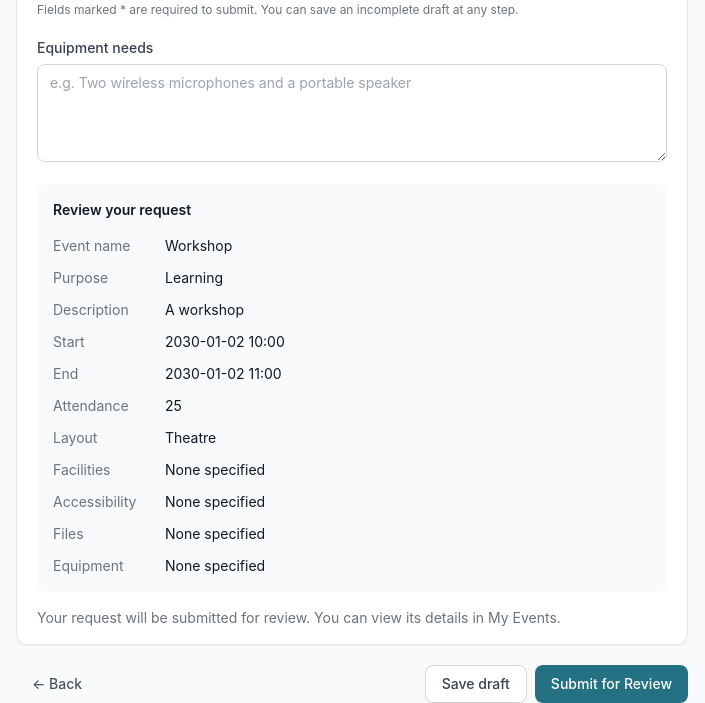
Scenario: SPM-37 Q2 functional cases › Q2-023 back navigation preserves data and server attachment errors are visible
The width and height of the screenshot is (705, 703).
(page scrolled)
Check: the text box labelled "Equipment needs" is shown, box x1=37 y1=64 x2=667 y2=162
Click the button "← Back" at [57, 684], box x1=16 y1=666 x2=98 y2=702
(page scrolled)
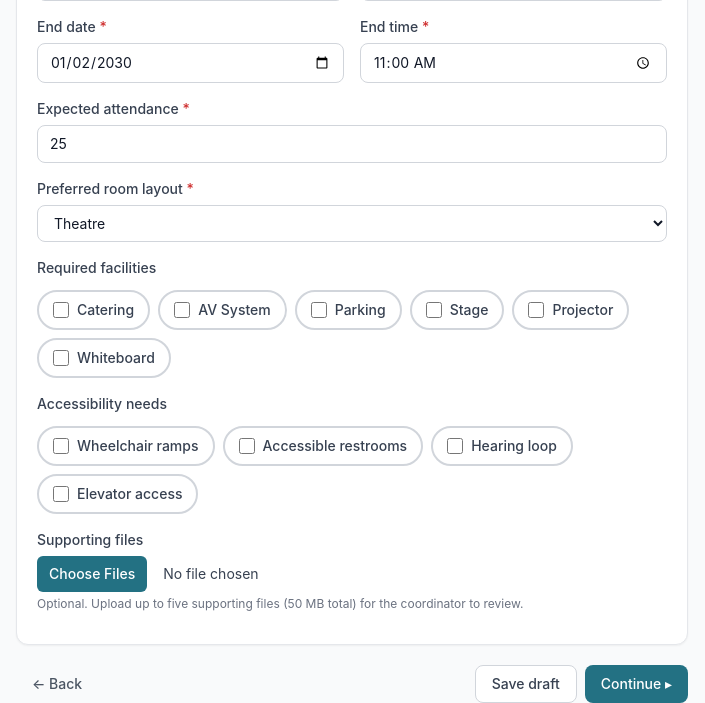
Check: the number field labelled "Expected attendance *" holds "25", box x1=37 y1=125 x2=667 y2=163
Click the button "Save draft" at [526, 684], box x1=475 y1=665 x2=577 y2=702
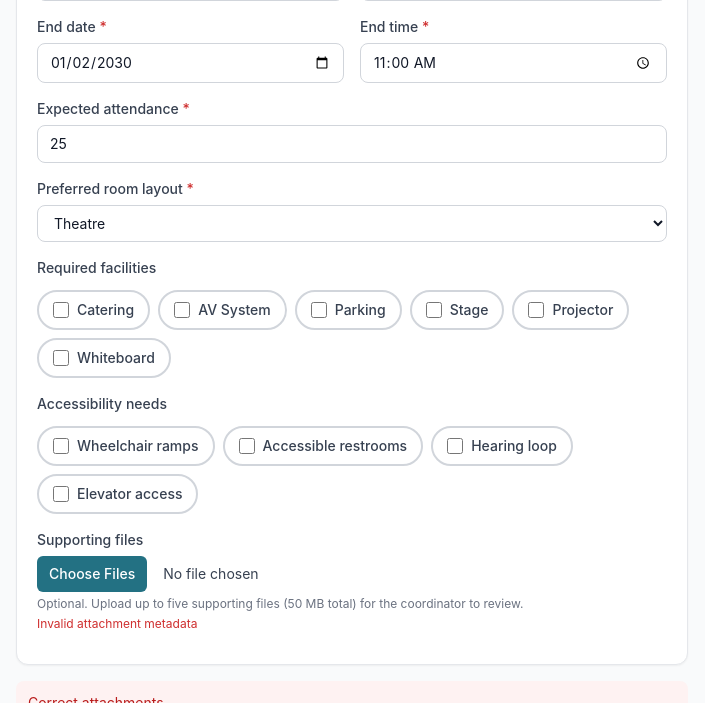
Check: the number field labelled "Expected attendance *" holds "25", box x1=37 y1=125 x2=667 y2=163
Check: the text "Invalid attachment metadata" is shown, box x1=37 y1=616 x2=197 y2=631
